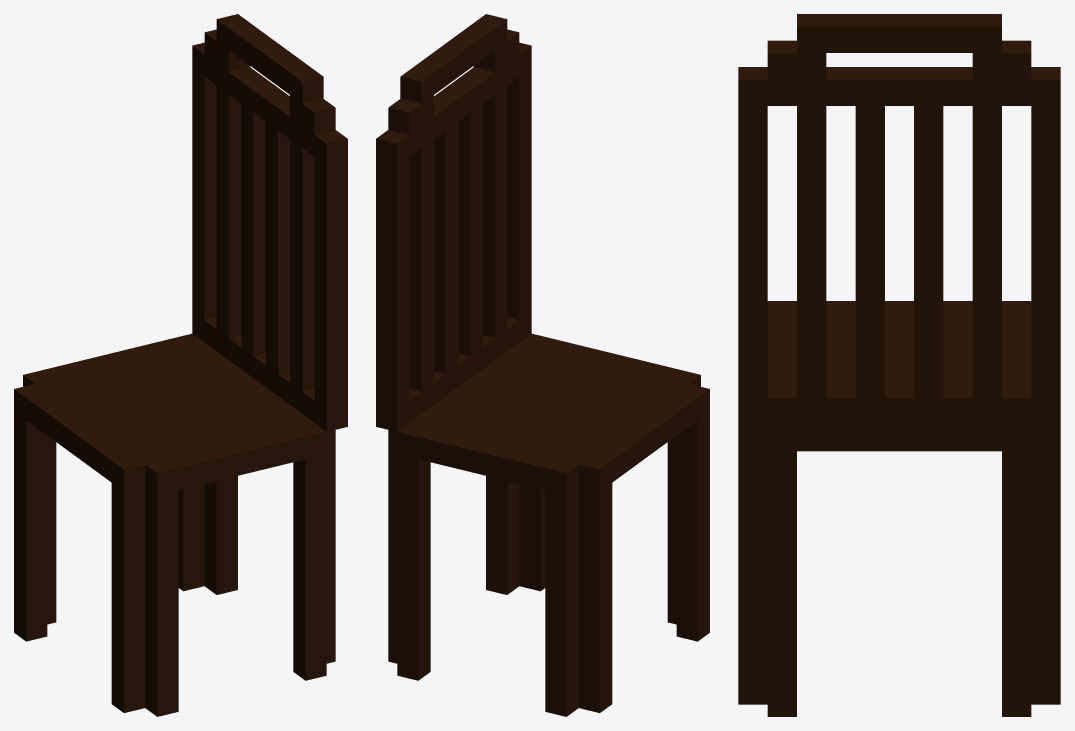
File: Level1-20-14-16.obj
The picture shows the model from 3 angles, left to right: view 1: azimuth 30°, elevation 25°; view 2: azimuth 150°, elevation 25°; view 3: azimuth 270°, elevation 25°; orthographic projection. The views are drawn at different scales.
Parts seen in each view (by area): view 1: Level1-20-14-16; view 2: Level1-20-14-16; view 3: Level1-20-14-16.
Boxes of the visible parts, box(x1,y1,x2,y2) form: Level1-20-14-16: box(14, 14, 347, 716); Level1-20-14-16: box(376, 14, 709, 716); Level1-20-14-16: box(738, 14, 1060, 716).
Size of the model in its own units: 10 by 26 by 11.
1 material, 1 textured.
